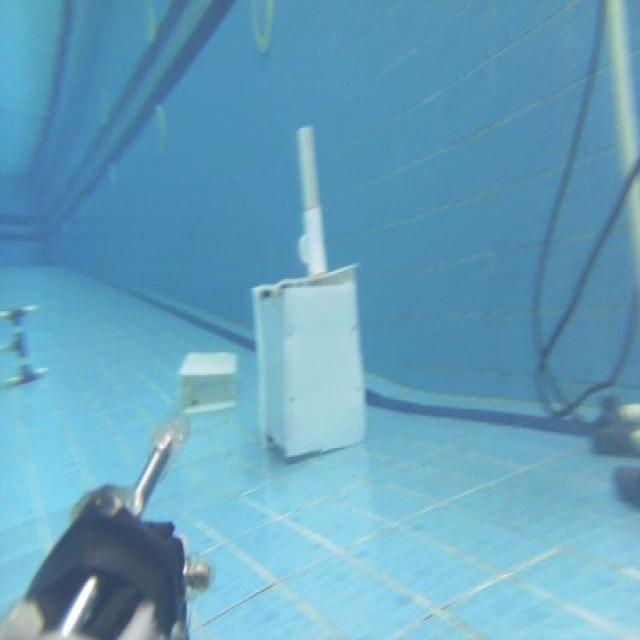Cube: (250, 260, 368, 460)
Cuboid: (177, 348, 238, 412)
